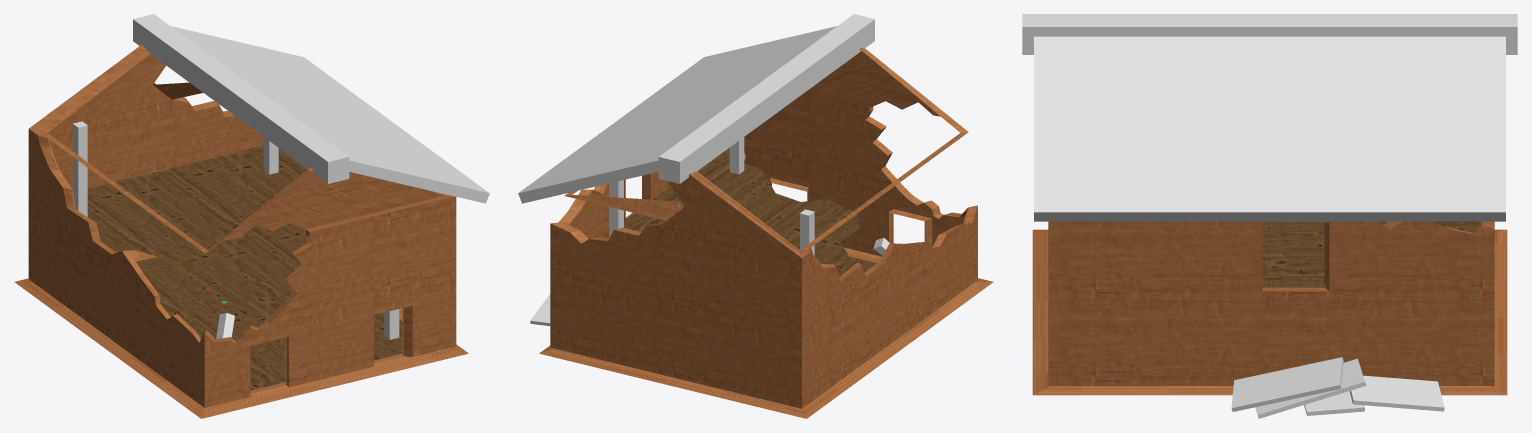
Rendered from house.glb.
3 renders of one model, left to right at view 1: azimuth 30°, elevation 25°; view 2: azimuth 150°, elevation 25°; view 3: azimuth 270°, elevation 25°, orthographic. The views are drawn at different scales.
Visible parts, largest first — view 1: Cube, Cube.010, Cube.011, Cube.002, Cube.006, Cube.001; view 2: Cube, Cube.010, Cube.011, Cube.006, Cube.002, Cube.001; view 3: Cube.010, Cube, Cube.011, Cube.004, Cube.008, Cube.003, Cube.007.
Part boxes in pixels (left/top/right/bottom): Cube: left=14, top=44, right=468, bottom=418; Cube.010: left=171, top=26, right=489, bottom=203; Cube.011: left=133, top=14, right=349, bottom=183; Cube.002: left=73, top=121, right=87, bottom=216; Cube.006: left=263, top=137, right=278, bottom=174; Cube.001: left=384, top=309, right=399, bottom=339; Cube: left=539, top=47, right=993, bottom=418; Cube.010: left=518, top=26, right=836, bottom=203; Cube.011: left=658, top=14, right=874, bottom=183; Cube.006: left=609, top=180, right=623, bottom=238; Cube.002: left=800, top=209, right=814, bottom=255; Cube.001: left=729, top=137, right=744, bottom=174; Cube.010: left=1034, top=36, right=1505, bottom=221; Cube: left=1032, top=221, right=1507, bottom=395; Cube.011: left=1022, top=14, right=1517, bottom=54; Cube.004: left=1231, top=357, right=1343, bottom=411; Cube.008: left=1349, top=375, right=1444, bottom=411; Cube.003: left=1255, top=358, right=1366, bottom=418; Cube.007: left=1304, top=391, right=1364, bottom=415.
Size of the model in its own units: 14.06 by 10.1 by 15.34.
Materials: 6 (6 with a texture image).
